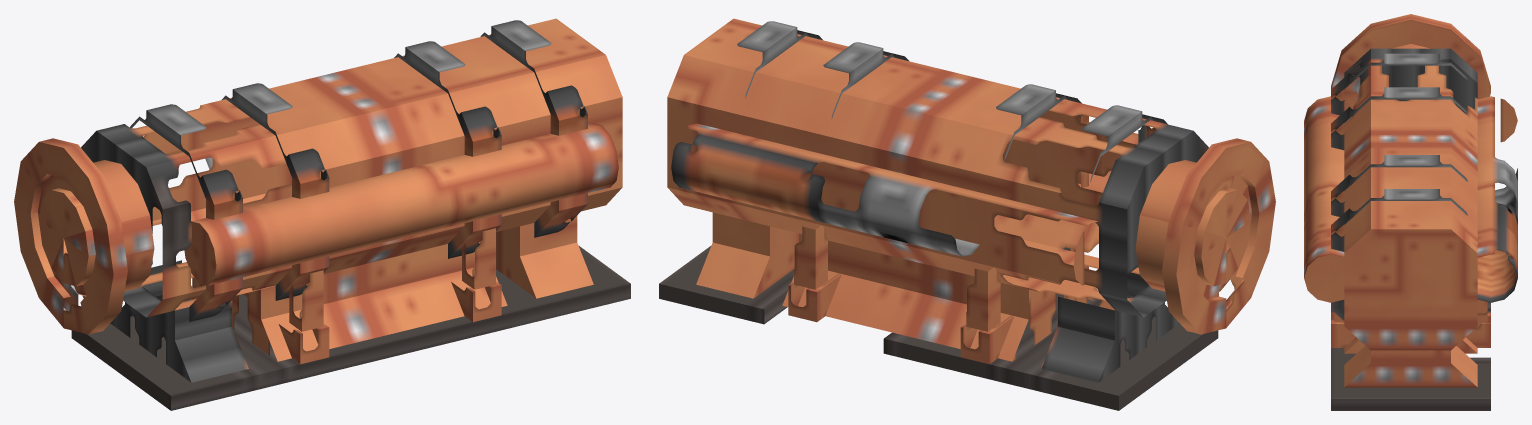
The model's file is boiler.obj.
3 renders of one model, left to right at view 1: azimuth 30°, elevation 25°; view 2: azimuth 150°, elevation 25°; view 3: azimuth 270°, elevation 25°, orthographic. The views are drawn at different scales.
Visible parts, largest first — view 1: Boiler; view 2: Boiler; view 3: Boiler.
Boxes of the visible parts, x1=… form: Boiler: x1=14, y1=18, x2=630, y2=410; Boiler: x1=659, y1=18, x2=1275, y2=410; Boiler: x1=1304, y1=14, x2=1517, y2=410.
Bounding box in the file's own units: 9 × 4 × 4.
